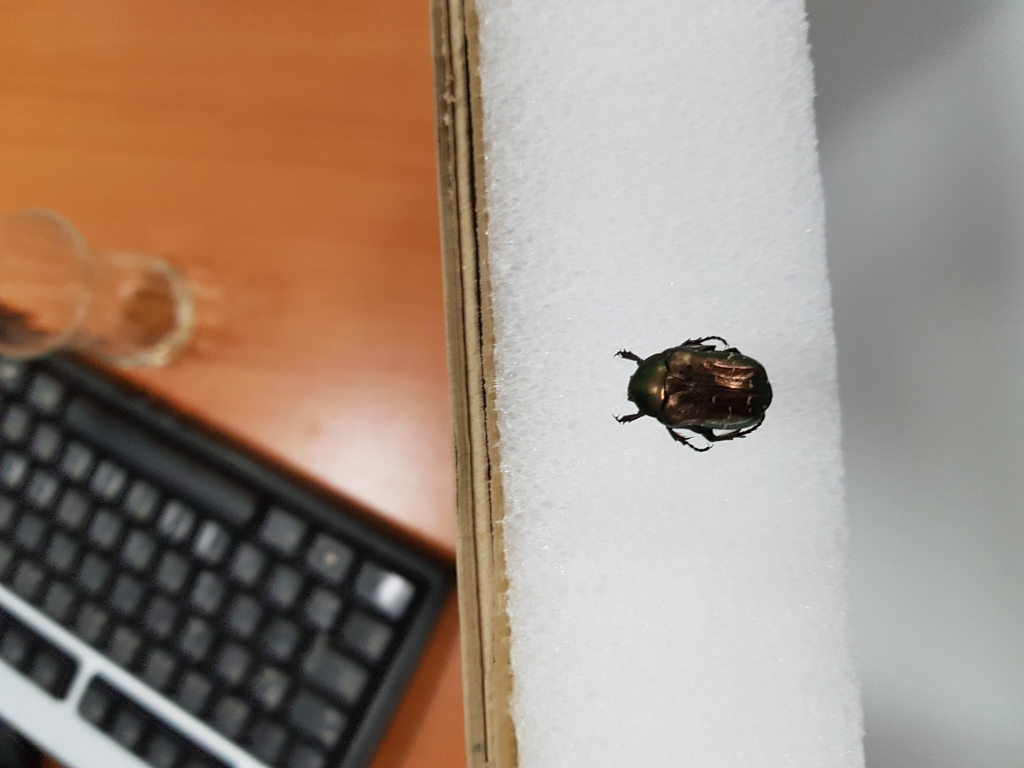Cetonia_aurata: (612, 335, 776, 457)
